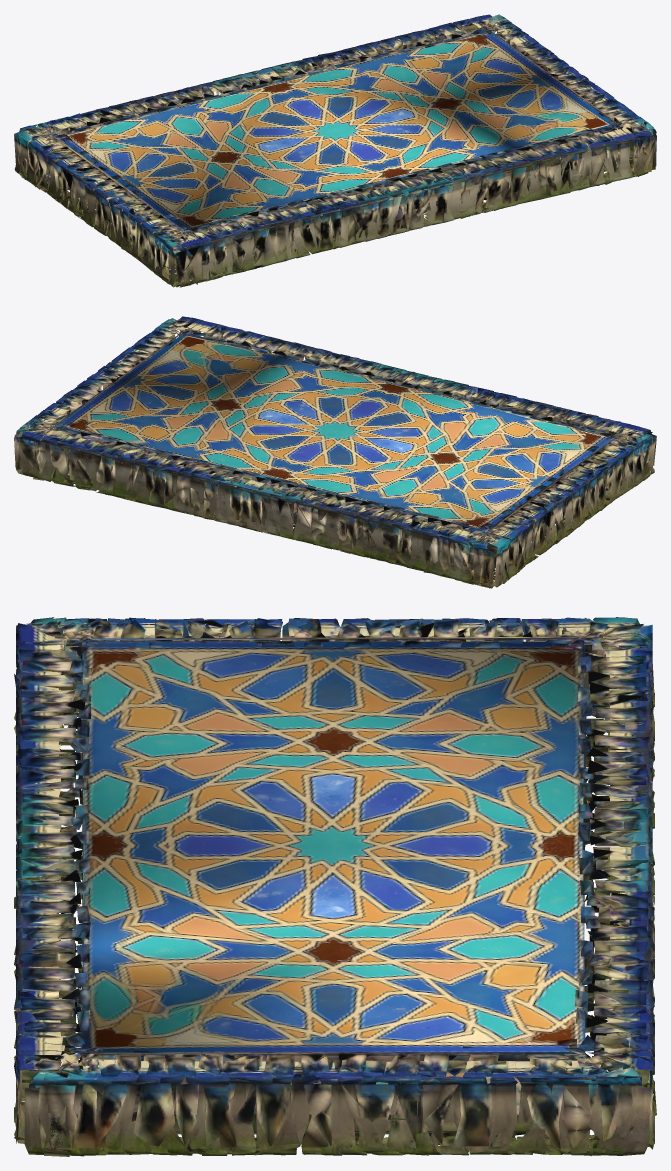
File: Meshy_AI_Starry_Mosaic_Tile_0721143420_texture.fbx
3 renders of one model, top to bottom at view 1: azimuth 30°, elevation 25°; view 2: azimuth 150°, elevation 25°; view 3: azimuth 270°, elevation 25°, orthographic. The views are drawn at different scales.
Visible parts, largest first — view 1: mesh_node; view 2: mesh_node; view 3: mesh_node.
Boxes of the visible parts, x1,y1,x2,y2 form: mesh_node: (14, 14, 656, 287); mesh_node: (14, 316, 656, 588); mesh_node: (14, 617, 656, 1156).
Size of the model in its own units: 100 by 8.42 by 58.79.
Materials: 1 (1 with a texture image).
